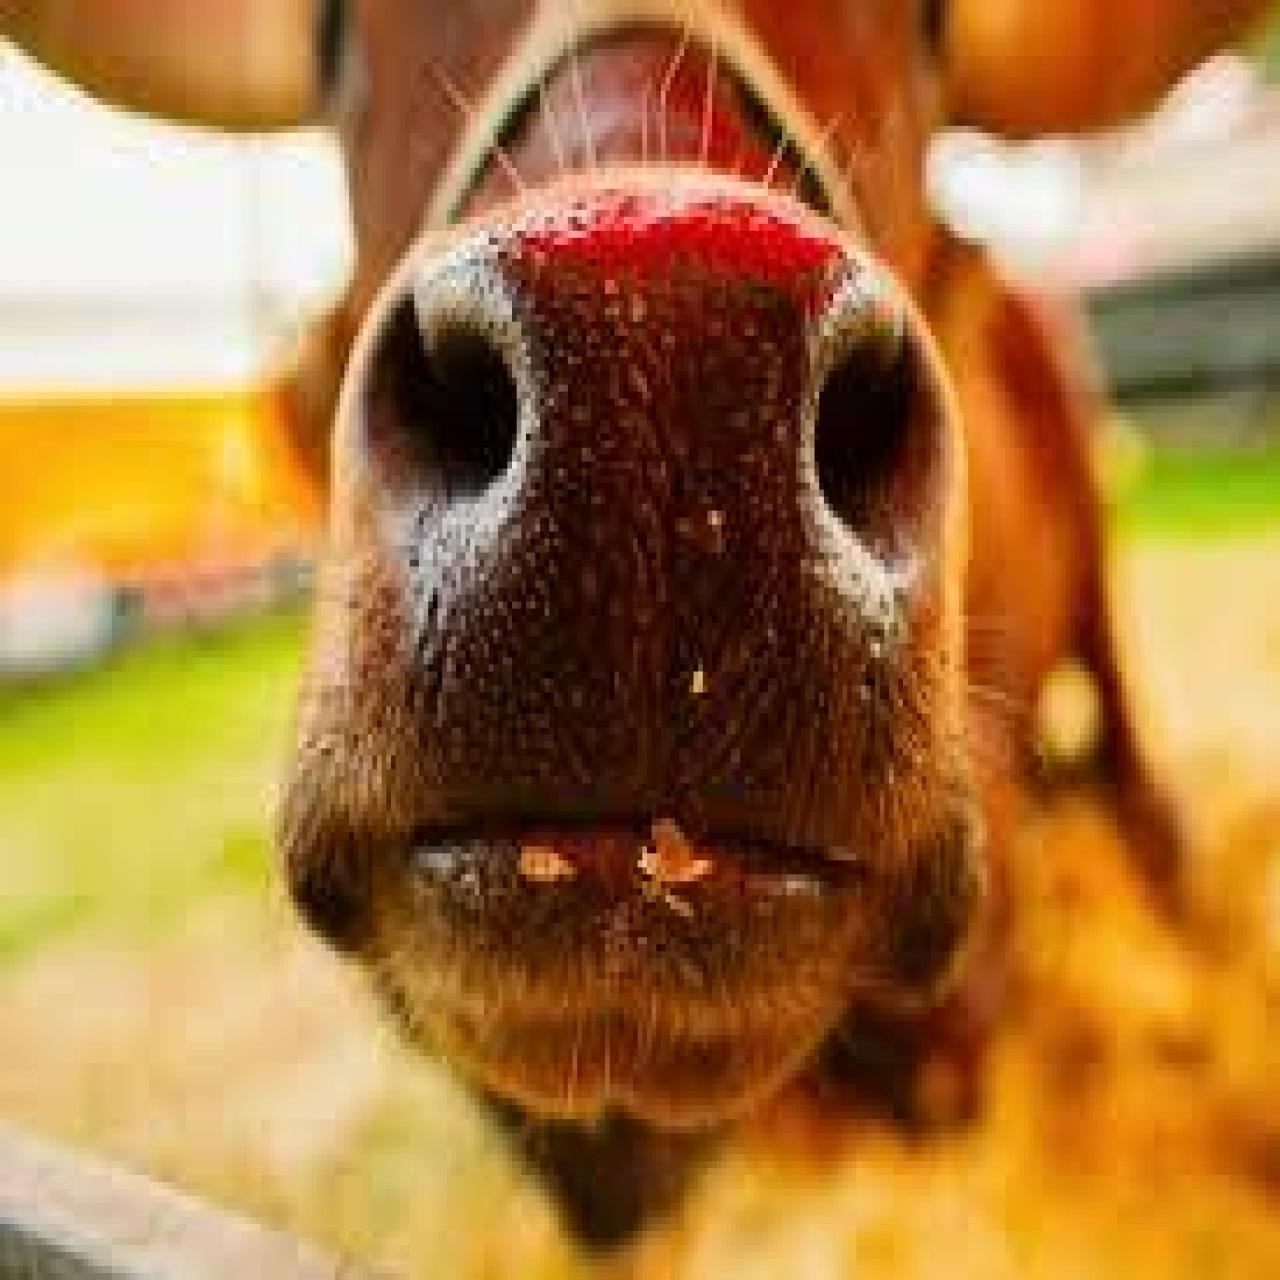cow: (281, 0, 1180, 1252)
